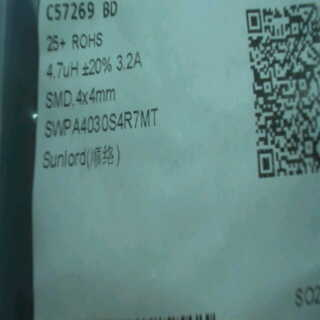4.7uH: (45, 56, 81, 83)
